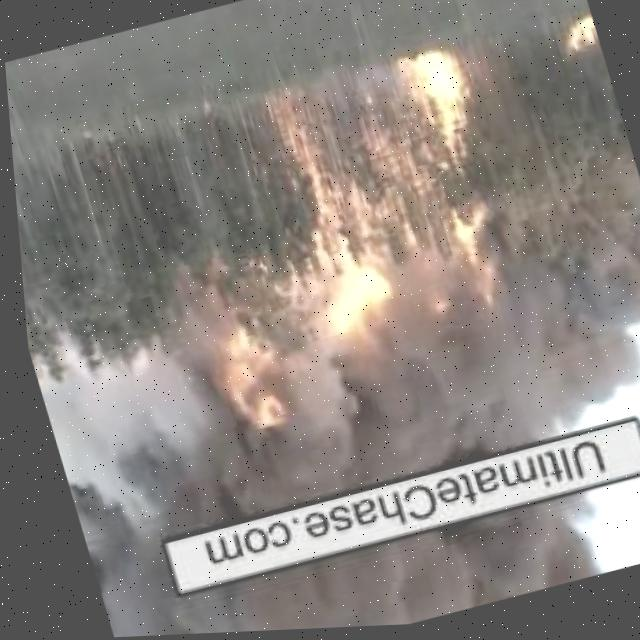Fire: (251, 36, 534, 348), (184, 269, 299, 454), (558, 19, 601, 64)
Smoke: (20, 228, 640, 556), (88, 488, 607, 638)
